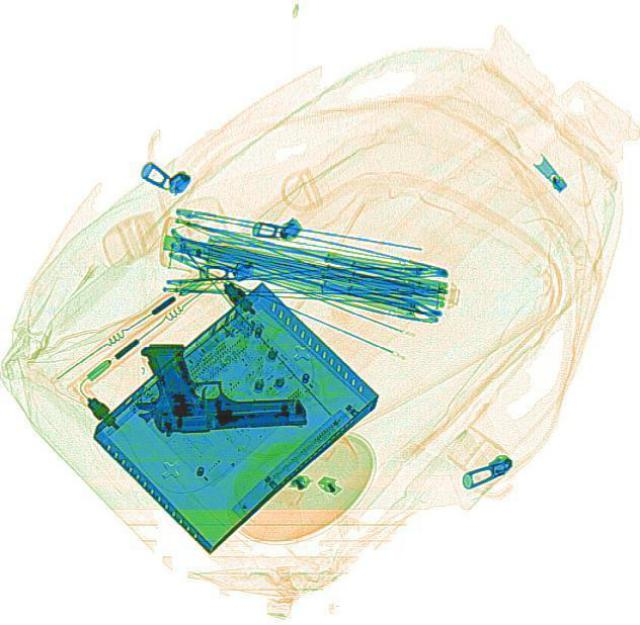Gun: (129, 335, 307, 432)
